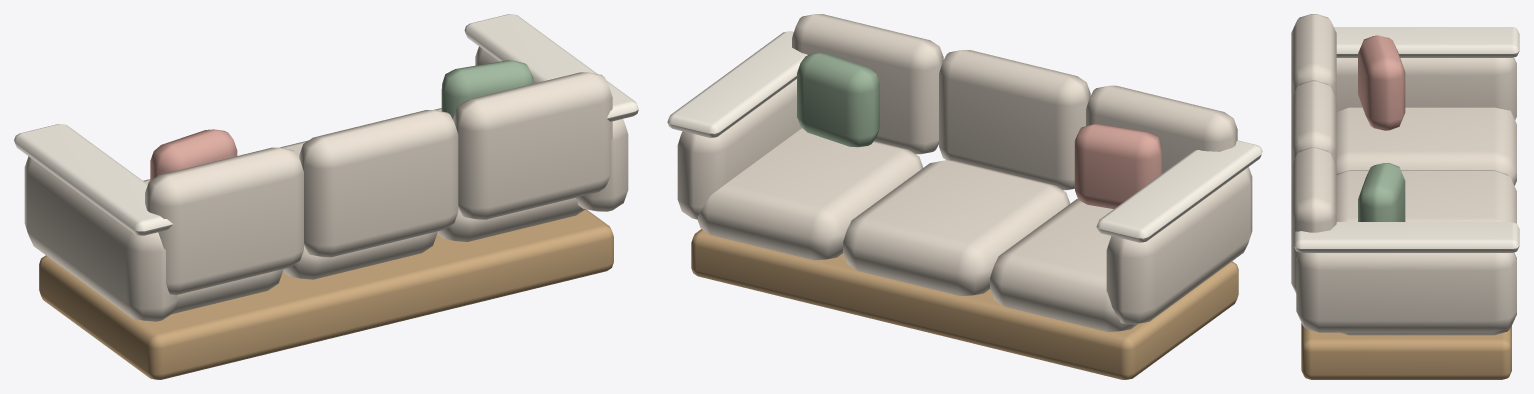
Rendered from sofa.glb.
3 views of the same model, side by side, from view 1: azimuth 30°, elevation 25°; view 2: azimuth 150°, elevation 25°; view 3: azimuth 270°, elevation 25° (orthographic). The views are drawn at different scales.
Parts seen in each view (by area): view 1: plinth, back_1, back_2, back_0, arm_-1, armcap_-1, armcap_1, seat_1, pillow_b, seat_2, pillow_a, arm_1 (+1 smaller); view 2: plinth, seat_1, seat_2, back_1, arm_-1, seat_0, back_2, arm_1, armcap_-1, back_0, pillow_b, armcap_1 (+1 smaller); view 3: arm_1, seat_0, plinth, seat_1, arm_-1, armcap_1, armcap_-1, back_2, pillow_a, back_1, back_0, pillow_b (+1 smaller).
Part boxes in pixels (box(x1,y1,x2,y2)): plinth: box(39, 209, 613, 379); back_1: box(299, 110, 458, 257); back_2: box(453, 72, 612, 219); back_0: box(145, 147, 303, 294); arm_-1: box(24, 156, 177, 321); armcap_-1: box(14, 124, 173, 235); armcap_1: box(464, 14, 638, 121); seat_1: box(280, 140, 437, 279); pillow_b: box(441, 60, 533, 119); seat_2: box(434, 108, 584, 241); pillow_a: box(150, 129, 237, 180); arm_1: box(475, 46, 628, 211); plinth: box(691, 229, 1238, 379); seat_1: box(843, 160, 1070, 296); seat_2: box(697, 128, 923, 260); back_1: box(939, 50, 1090, 190); arm_-1: box(1106, 167, 1252, 324); seat_0: box(990, 199, 1137, 331); back_2: box(792, 14, 943, 154); arm_1: box(677, 79, 801, 219); armcap_-1: box(1096, 140, 1262, 242); back_0: box(1086, 85, 1237, 173); pillow_b: box(797, 53, 879, 147); armcap_1: box(667, 31, 807, 137); arm_1: box(1296, 252, 1516, 332); seat_0: box(1336, 107, 1516, 185); plinth: box(1301, 323, 1511, 379); seat_1: box(1336, 170, 1516, 223); arm_-1: box(1336, 57, 1516, 120); armcap_1: box(1294, 222, 1519, 252); armcap_-1: box(1334, 27, 1519, 57); back_2: box(1291, 147, 1336, 293); pillow_a: box(1358, 35, 1405, 130); back_1: box(1291, 80, 1336, 165); back_0: box(1291, 14, 1336, 99); pillow_b: box(1358, 163, 1405, 221).
Size of the model in its own units: 2.06 by 0.78 by 0.91.
